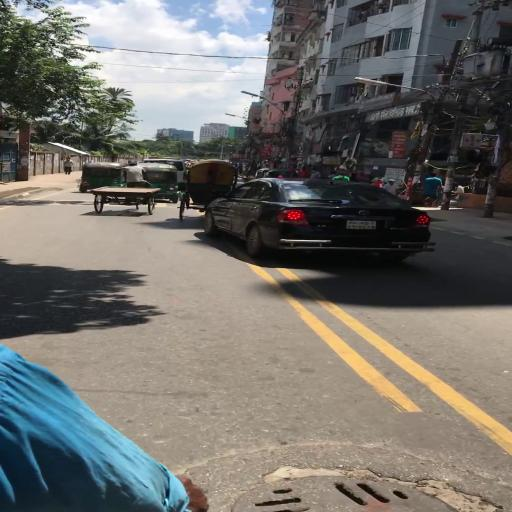car: (202, 178, 438, 263)
rickshaw: (89, 160, 164, 217), (178, 159, 238, 223)
three wheelers (CNG): (139, 164, 181, 204), (80, 162, 127, 193)
